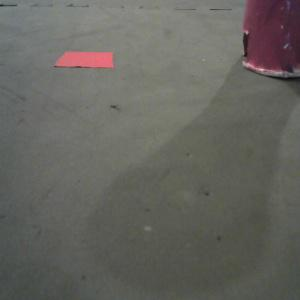right: (241, 1, 300, 78)
